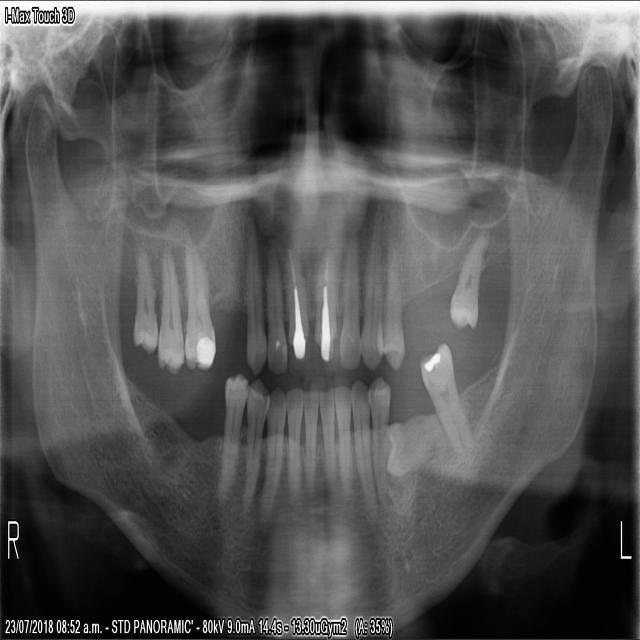LCU: (357, 203, 383, 376)
LID: (332, 381, 350, 499), (316, 383, 334, 497)
LIU: (309, 206, 337, 377), (336, 221, 361, 373)
LMD: (415, 336, 474, 469)
LMU: (445, 226, 488, 333)
LPMD: (349, 376, 376, 527), (366, 374, 391, 511)
LPMU: (375, 226, 406, 370)
RCD: (255, 382, 287, 526)
RCU: (241, 206, 266, 380)
RID: (283, 386, 303, 510), (301, 386, 318, 500)
RIU: (280, 227, 313, 379), (263, 237, 287, 376)
RMU: (182, 236, 218, 376), (154, 236, 183, 377), (128, 239, 159, 358)
RPMD: (212, 367, 248, 504), (238, 374, 270, 525)
